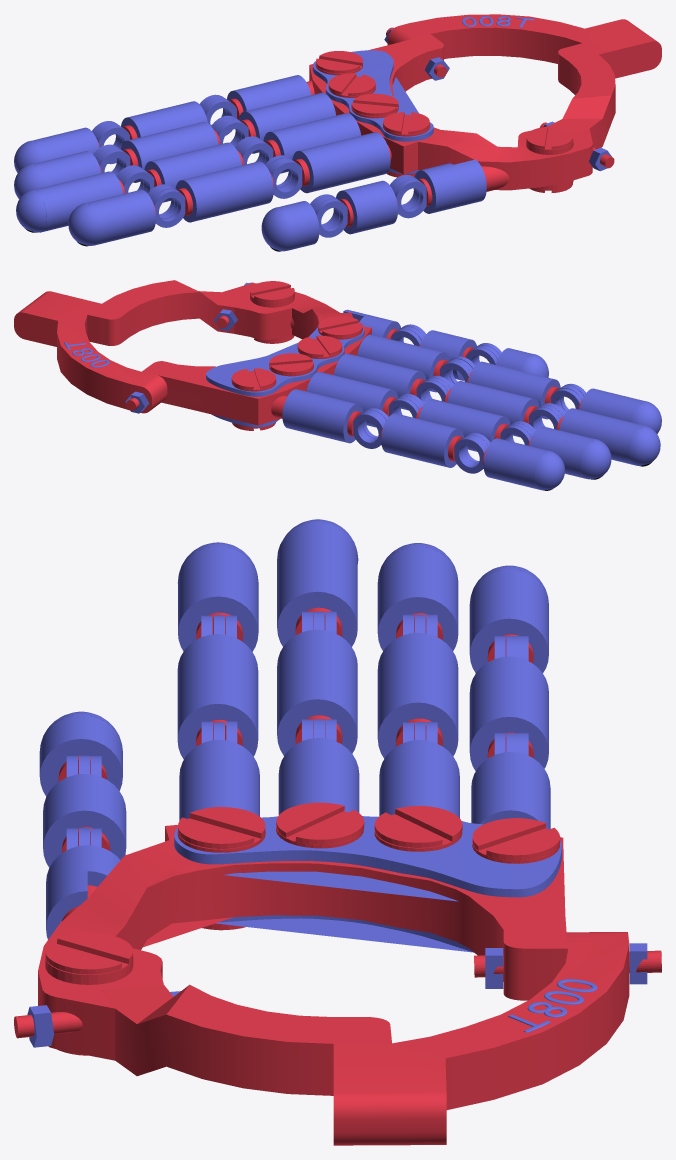
The model's file is RobotHandV9BETA.fbx.
3 views of the same model, one above another, from view 1: azimuth 30°, elevation 25°; view 2: azimuth 150°, elevation 25°; view 3: azimuth 270°, elevation 25° (orthographic). The views are drawn at different scales.
Parts seen in each view (by area): view 1: Cylinder.010, Cylinder.016, Cylinder.006, Cylinder.078, Cylinder.063, Cylinder.069, Cylinder.082, Cylinder.058, Cylinder.004, Cylinder.018, Cylinder.093, Cylinder.106 (+17 smaller); view 2: Cylinder.010, Cylinder.016, Cylinder.017, Cylinder.118, Cylinder.082, Cylinder.014, Cylinder.018, Cylinder.006, Cylinder.002, Cylinder.004, Cylinder.093, Cylinder.078 (+18 smaller); view 3: Cylinder.010, Cylinder.016, BezierCurve, Cylinder.018, Cylinder.004, Cylinder.006, Cylinder.082, Cylinder.017, Cylinder.069, Cylinder.002, Cylinder.014, Cylinder.058 (+20 smaller).
Part boxes in pixels (left/top/right/bottom): Cylinder.010: left=387, top=14, right=661, bottom=148; Cylinder.016: left=309, top=34, right=592, bottom=190; Cylinder.006: left=148, top=158, right=295, bottom=227; Cylinder.078: left=265, top=132, right=391, bottom=198; Cylinder.063: left=390, top=159, right=509, bottom=218; Cylinder.069: left=68, top=186, right=179, bottom=246; Cylinder.082: left=16, top=167, right=146, bottom=232; Cylinder.058: left=310, top=177, right=420, bottom=237; Cylinder.004: left=93, top=118, right=241, bottom=182; Cylinder.018: left=116, top=138, right=265, bottom=202; Cylinder.093: left=235, top=113, right=361, bottom=173; Cylinder.106: left=211, top=92, right=335, bottom=153; Cylinder.010: left=14, top=280, right=244, bottom=413; Cylinder.016: left=142, top=283, right=371, bottom=425; Cylinder.017: left=359, top=410, right=490, bottom=473; Cylinder.118: left=271, top=389, right=388, bottom=448; Cylinder.082: left=536, top=405, right=660, bottom=466; Cylinder.014: left=461, top=435, right=564, bottom=490; Cylinder.018: left=424, top=378, right=565, bottom=437; Cylinder.006: left=446, top=359, right=585, bottom=419; Cylinder.002: left=507, top=423, right=611, bottom=479; Cylinder.004: left=395, top=396, right=535, bottom=451; Cylinder.093: left=334, top=353, right=452, bottom=410; Cylinder.078: left=357, top=334, right=475, bottom=392; Cylinder.010: left=102, top=932, right=629, bottom=1145; Cylinder.016: left=38, top=823, right=568, bottom=1060; BezierCurve: left=174, top=816, right=561, bottom=901; Cylinder.018: left=277, top=611, right=357, bottom=755; Cylinder.004: left=377, top=614, right=458, bottom=758; Cylinder.006: left=177, top=615, right=258, bottom=759; Cylinder.082: left=277, top=519, right=358, bottom=646; Cylinder.017: left=469, top=636, right=548, bottom=770; Cylinder.069: left=177, top=542, right=258, bottom=651; Cylinder.002: left=377, top=543, right=458, bottom=650; Cylinder.014: left=469, top=565, right=548, bottom=673; Cylinder.058: left=43, top=756, right=126, bottom=867.
Bounding box in the file's own units: 60.62 × 5.52 × 28.3.
